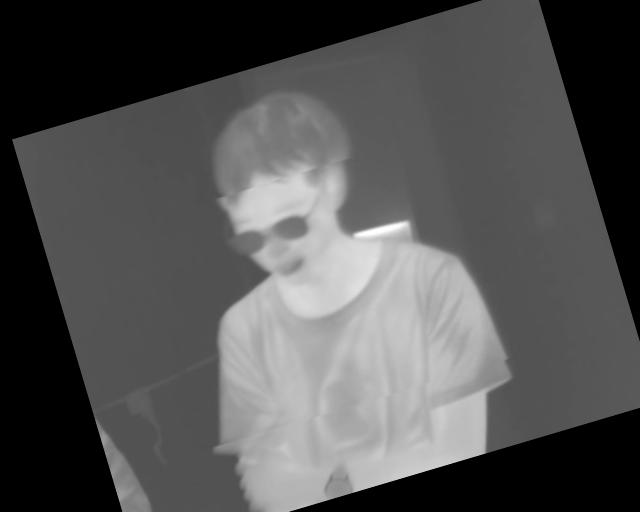face: (189, 75, 386, 303)
